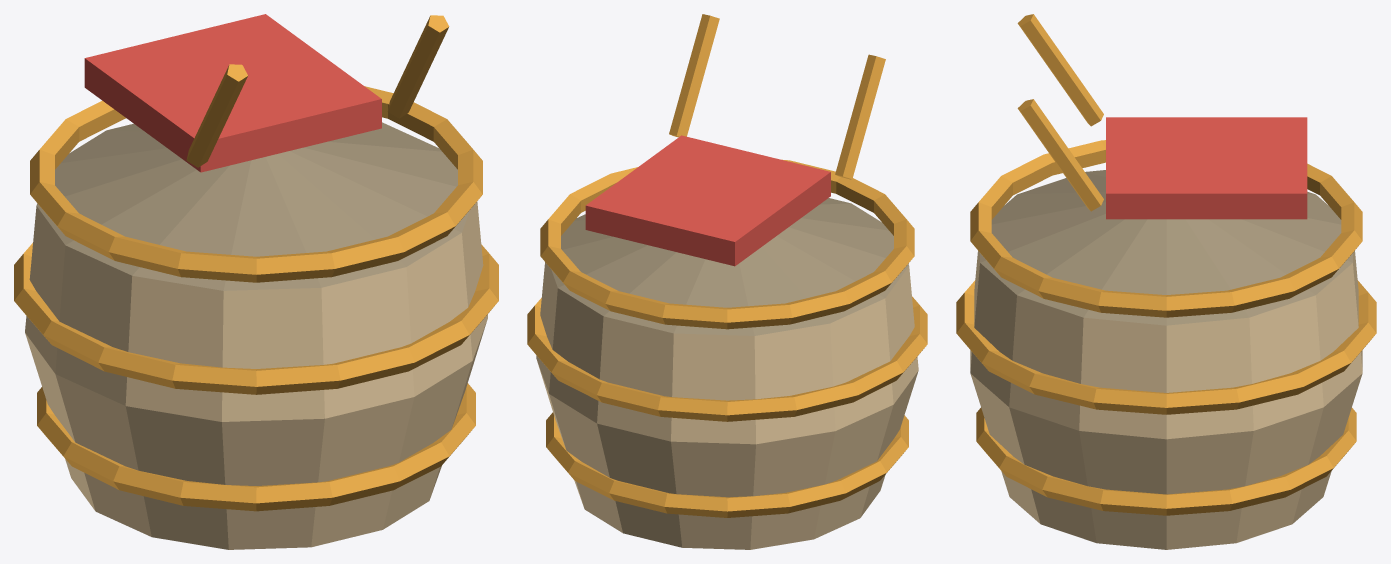
The model's file is ParkParkDunePod.obj.
3 views of the same model, side by side, from view 1: azimuth 30°, elevation 25°; view 2: azimuth 150°, elevation 25°; view 3: azimuth 270°, elevation 25° (orthographic). The views are drawn at different scales.
Visible parts, largest first — view 1: ParkParkDunePod; view 2: ParkParkDunePod; view 3: ParkParkDunePod.
Boxes of the visible parts, bbox=[...] form: ParkParkDunePod: bbox=[14, 14, 498, 549]; ParkParkDunePod: bbox=[527, 14, 927, 549]; ParkParkDunePod: bbox=[956, 14, 1376, 549].
Bounding box in the file's own units: 2.12 × 2.33 × 2.09.
